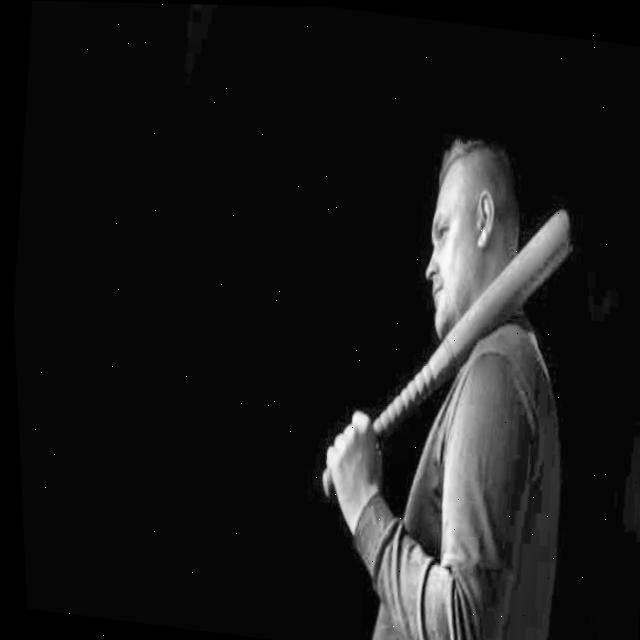tongkat pemukul: (298, 202, 584, 521)
